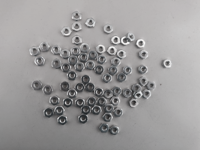nut: (78, 114, 89, 125), (31, 81, 42, 91), (43, 85, 53, 96), (49, 96, 60, 106), (44, 108, 54, 119), (55, 106, 65, 117), (58, 115, 68, 126), (51, 45, 62, 55), (51, 59, 62, 69), (102, 74, 113, 84), (111, 57, 122, 67), (60, 49, 71, 59), (80, 43, 91, 53), (68, 55, 78, 66), (100, 124, 110, 134), (110, 126, 120, 136), (114, 108, 124, 118), (103, 113, 113, 123), (92, 106, 102, 116), (75, 98, 85, 108), (63, 98, 73, 108), (60, 82, 70, 92), (67, 71, 77, 81), (35, 56, 45, 66), (30, 46, 40, 56), (40, 42, 50, 52), (72, 35, 82, 45), (62, 26, 72, 36), (72, 22, 82, 32), (72, 11, 82, 21), (86, 18, 96, 28), (104, 24, 114, 34), (96, 44, 106, 54), (111, 35, 121, 45), (108, 46, 118, 56), (97, 55, 107, 65), (95, 65, 105, 75), (86, 83, 96, 93), (81, 75, 91, 85), (75, 83, 85, 93), (67, 89, 77, 99), (138, 65, 148, 75), (139, 50, 149, 60), (126, 32, 136, 42), (87, 97, 97, 107), (94, 88, 104, 98), (112, 87, 122, 97), (104, 89, 114, 99), (123, 88, 133, 98), (71, 46, 81, 56), (75, 62, 85, 72), (79, 52, 89, 62), (61, 63, 71, 73), (163, 59, 173, 69), (136, 39, 146, 48), (123, 66, 133, 75), (117, 73, 127, 82), (108, 66, 118, 75), (117, 50, 127, 59), (121, 36, 130, 46), (129, 99, 139, 108), (88, 51, 98, 60), (85, 61, 95, 70), (111, 97, 120, 106), (105, 104, 114, 113), (143, 90, 152, 99), (140, 77, 149, 86), (133, 84, 142, 93), (134, 91, 143, 100), (148, 81, 156, 91), (81, 106, 91, 114), (98, 99, 107, 107)
